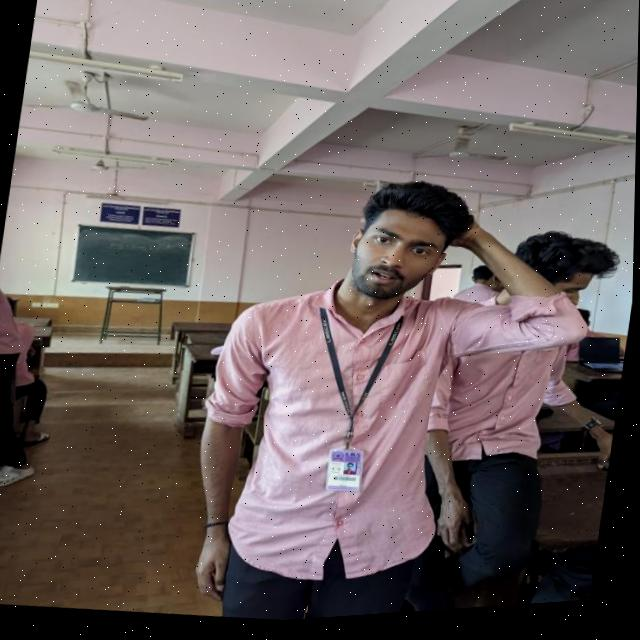id_card: (288, 294, 423, 510)
